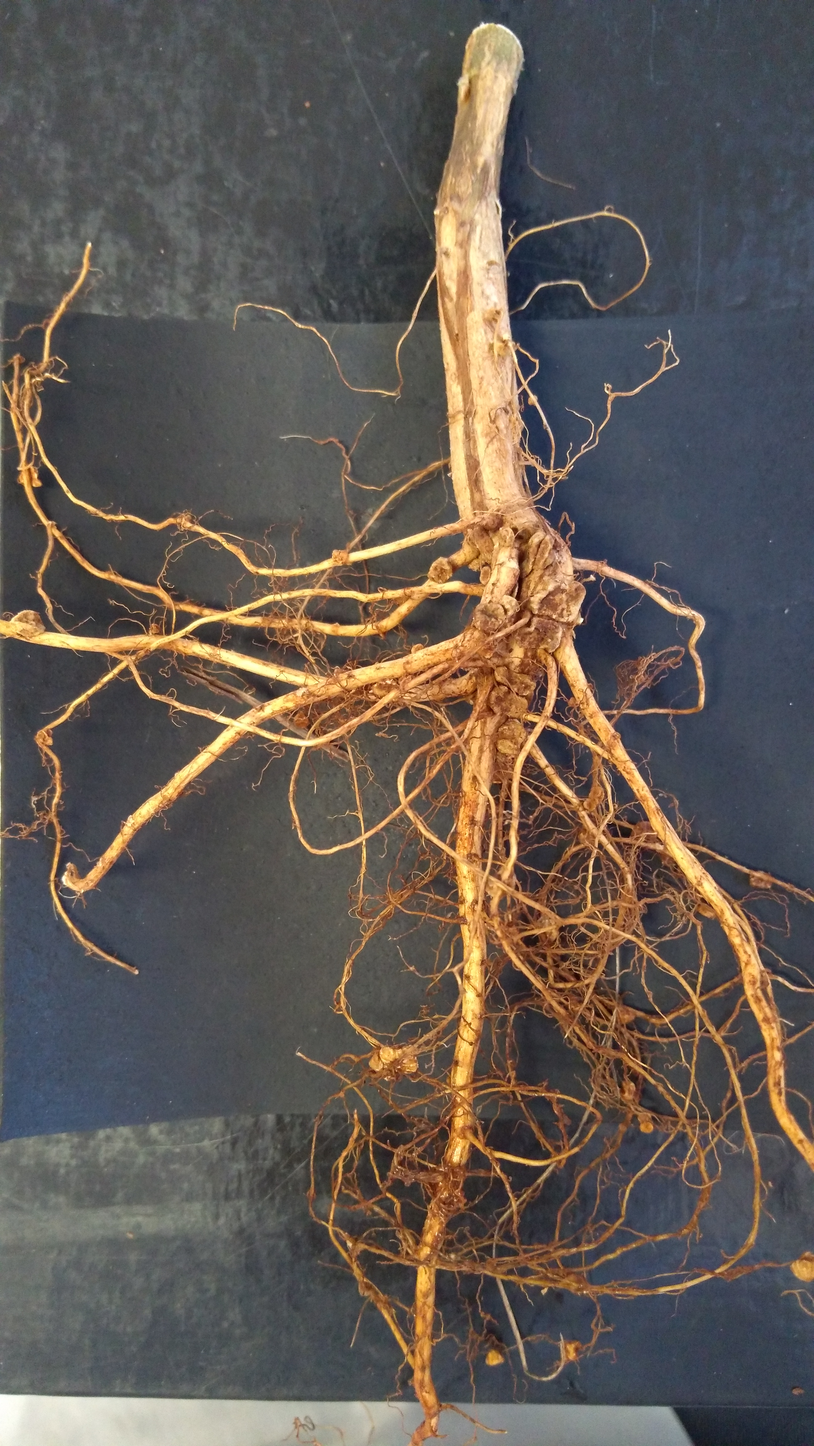nodule: (527, 579, 589, 628), (485, 684, 531, 721), (492, 663, 540, 698), (7, 607, 50, 645), (493, 717, 530, 758), (527, 616, 565, 655), (467, 602, 508, 634), (426, 554, 456, 587), (745, 867, 779, 896), (788, 1247, 813, 1286), (627, 817, 660, 845), (581, 784, 608, 815), (16, 461, 44, 490), (496, 592, 522, 618), (560, 1335, 581, 1362), (376, 1042, 399, 1066), (329, 546, 354, 568), (370, 681, 395, 700), (400, 1056, 422, 1076), (697, 903, 721, 921), (477, 565, 494, 587), (633, 1109, 656, 1125), (619, 1078, 640, 1095), (368, 1050, 383, 1073), (484, 1349, 504, 1366), (637, 1118, 656, 1134), (408, 641, 428, 655), (565, 694, 580, 709), (150, 621, 164, 635), (527, 396, 538, 406)
